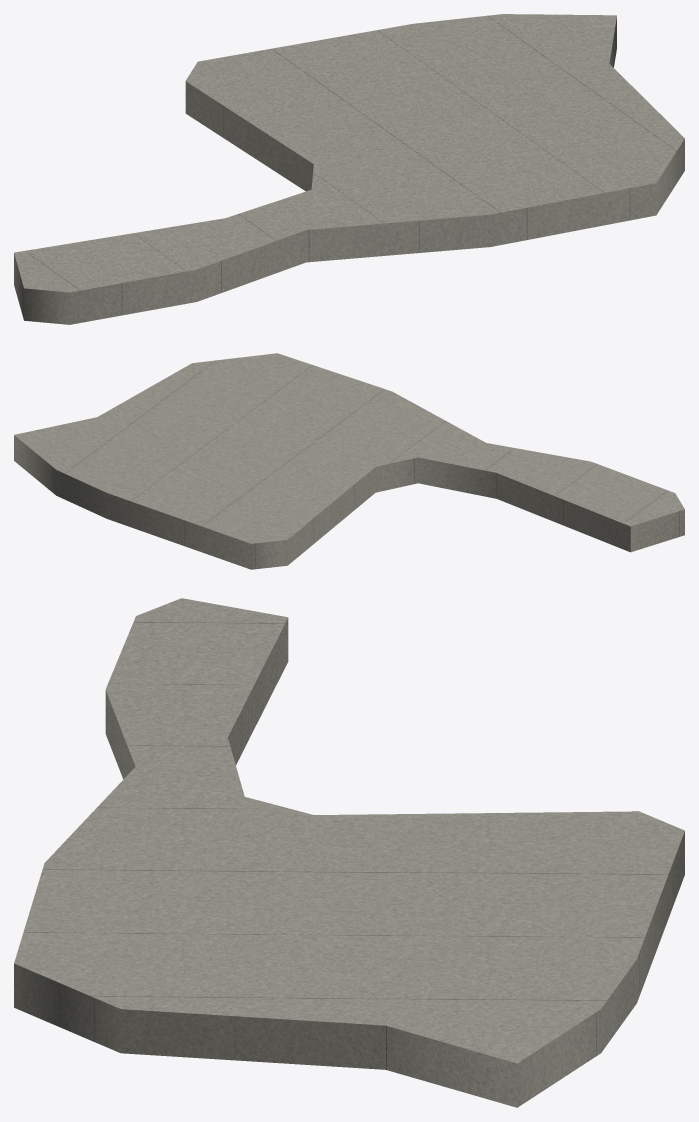
The model's file is curb_06.gltf.
3 renders of one model, top to bottom at view 1: azimuth 30°, elevation 25°; view 2: azimuth 150°, elevation 25°; view 3: azimuth 270°, elevation 25°, orthographic. The views are drawn at different scales.
Parts seen in each view (by area): view 1: curb_06.surface, curb_06.sides; view 2: curb_06.surface, curb_06.sides; view 3: curb_06.surface, curb_06.sides.
Part boxes in pixels (box(x1,y1,x2,y2)): curb_06.surface: box(14, 14, 684, 292); curb_06.sides: box(14, 17, 684, 324); curb_06.surface: box(14, 353, 684, 543); curb_06.sides: box(14, 435, 684, 569); curb_06.surface: box(14, 598, 684, 1063); curb_06.sides: box(14, 618, 684, 1107).
Bounding box in the file's own units: 3.7 × 0.2141 × 2.2.
1 material, 1 textured.
